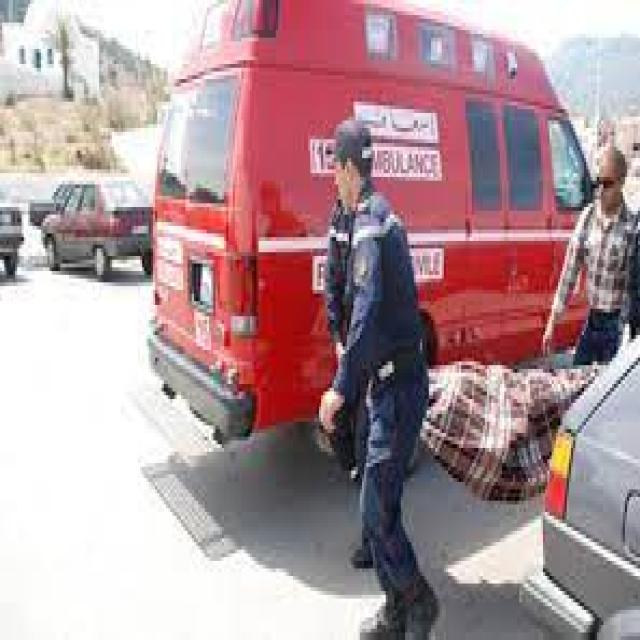ambulance: (150, 6, 593, 434)
